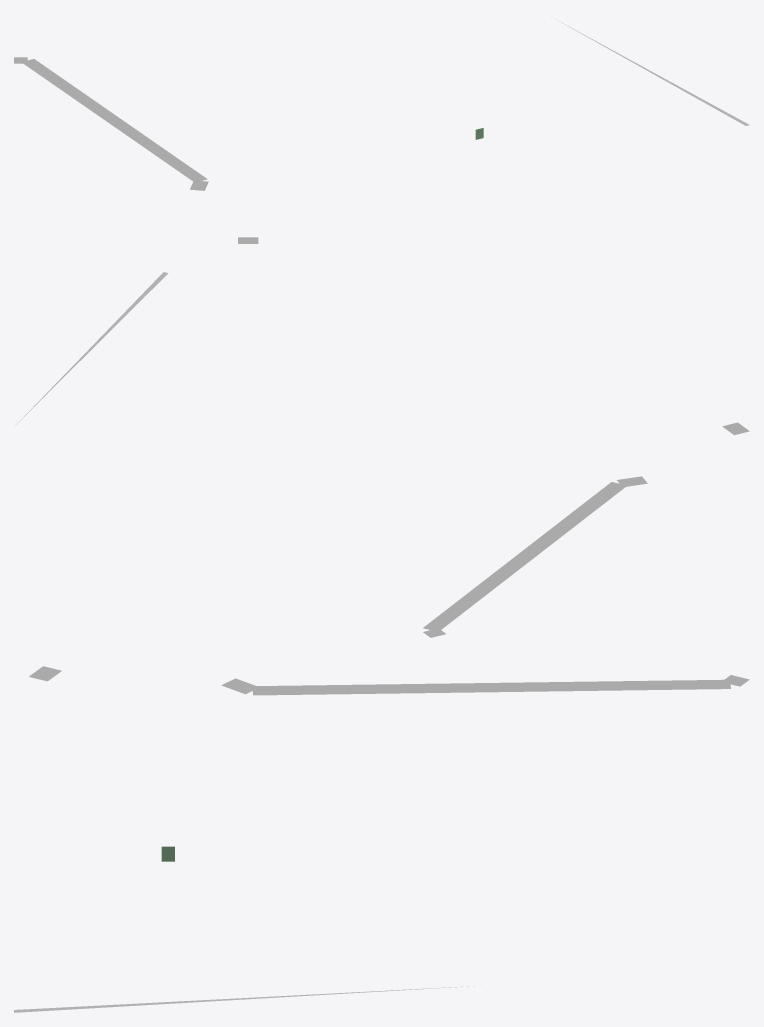
The picture shows the model from 3 angles, top to bottom: view 1: azimuth 30°, elevation 25°; view 2: azimuth 150°, elevation 25°; view 3: azimuth 270°, elevation 25°; orthographic projection. The views are drawn at different scales.
Bounding box in the file's own units: 189 × 4.89 × 167.
